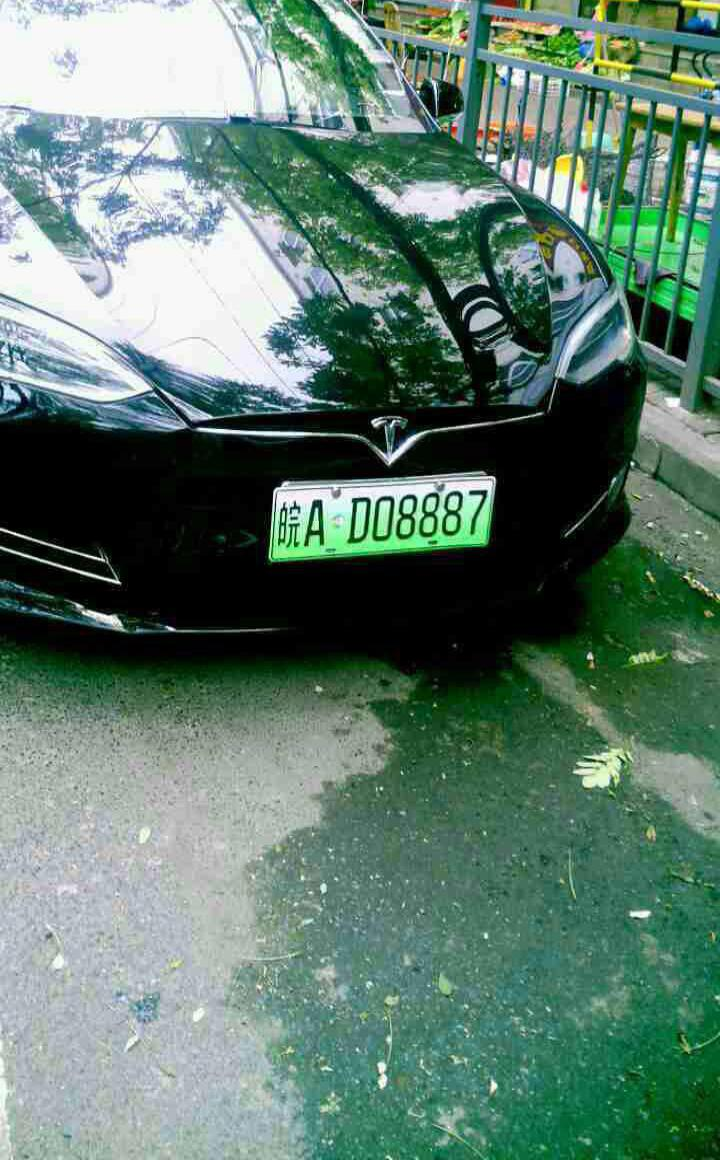car_id: (271, 479, 487, 557)
